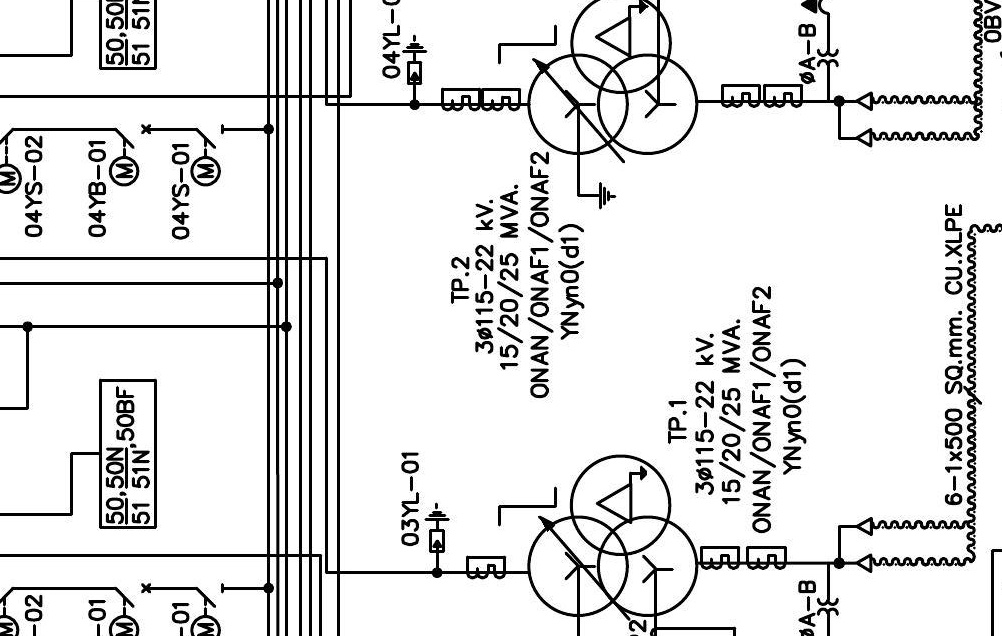11522_tx_ynyn0d1: (526, 453, 700, 618)
115_1way_ds_w_motor: (189, 124, 224, 188)
115_breaker: (115, 123, 152, 150), (115, 582, 152, 608)
115_la: (401, 34, 428, 86), (424, 502, 450, 554)
terminator_double: (837, 516, 873, 574), (837, 91, 873, 148)
